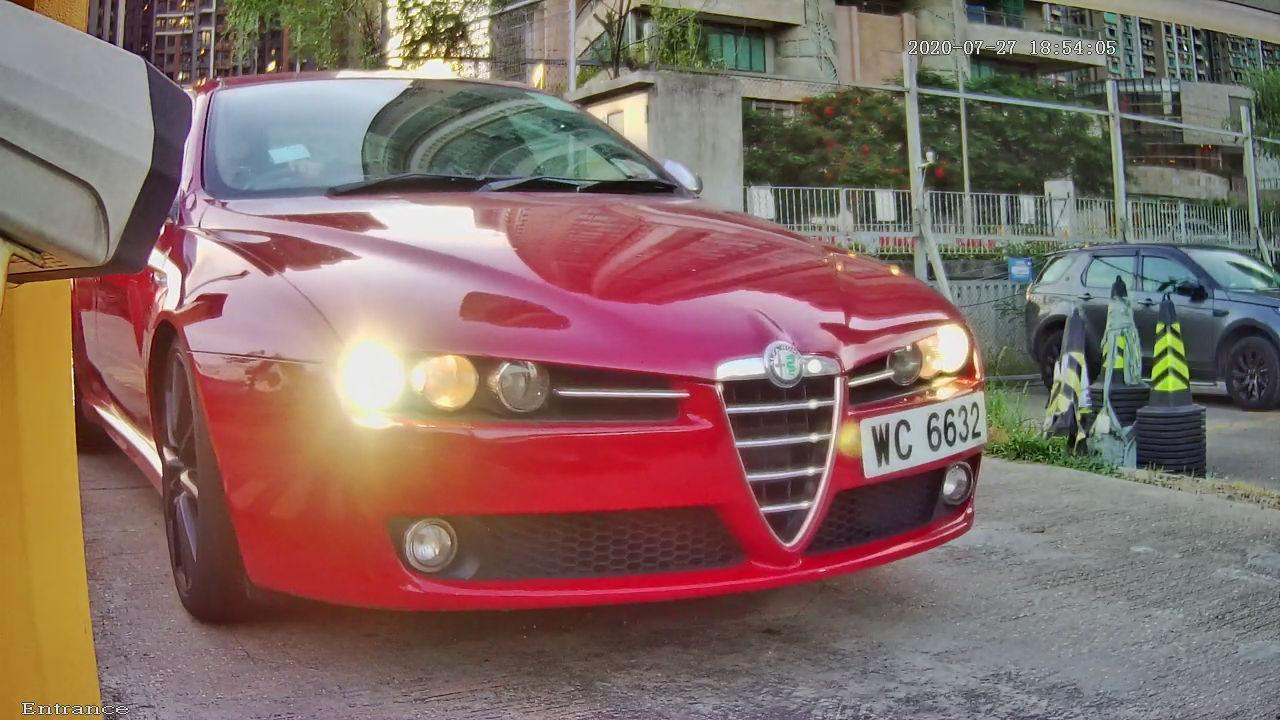privatecar: (121, 13, 1052, 676)
